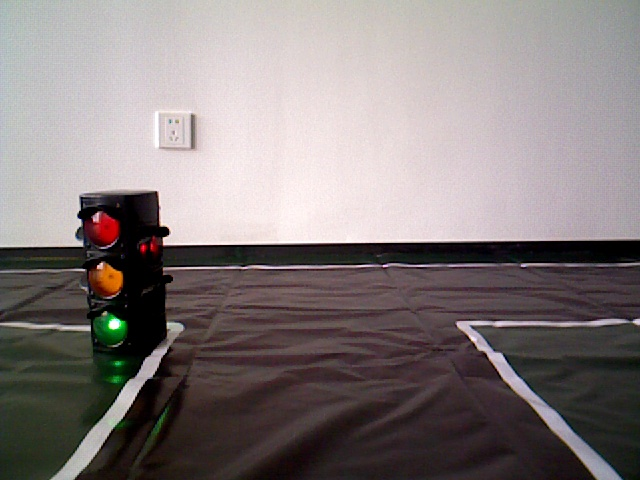green: (81, 198, 158, 340)
